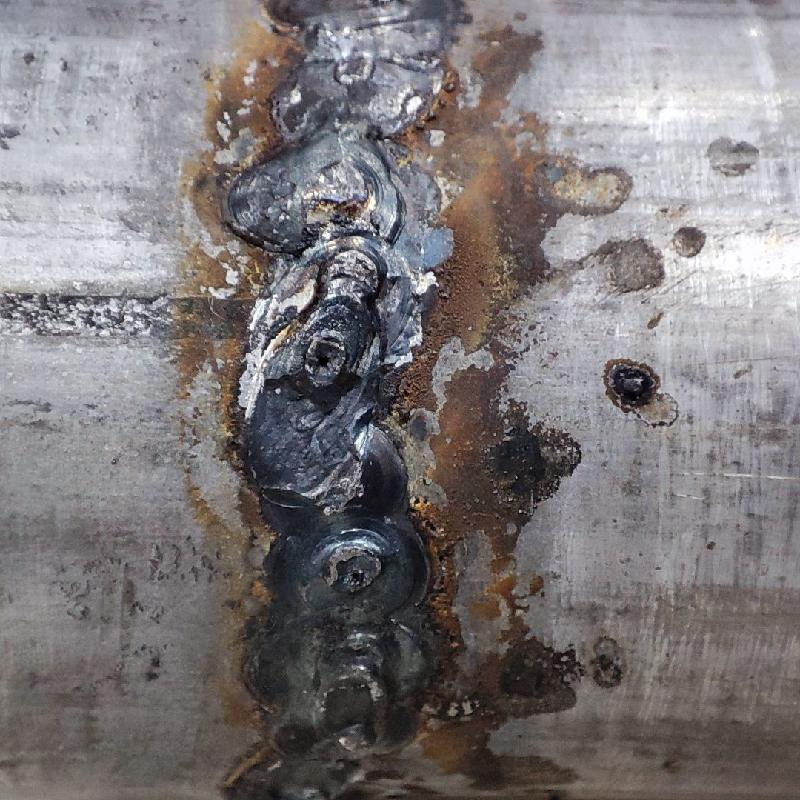Surface_pores: (295, 325, 355, 385)
wrong_size: (235, 2, 450, 790)
